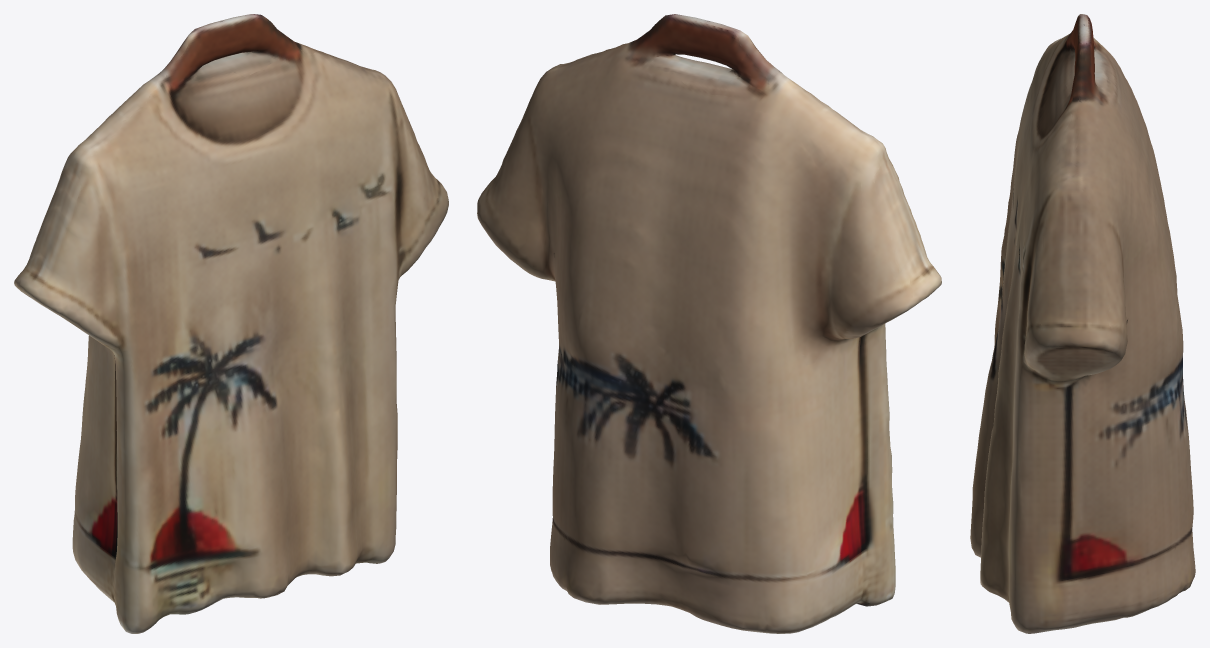
File: remerax8.glb
The picture shows the model from 3 angles, left to right: view 1: azimuth 30°, elevation 25°; view 2: azimuth 150°, elevation 25°; view 3: azimuth 270°, elevation 25°; orthographic projection. The views are drawn at different scales.
Visible parts, largest first — view 1: mesh; view 2: mesh; view 3: mesh.
Boxes of the visible parts, left/top/right/bottom form: mesh: left=14, top=14, right=448, bottom=633; mesh: left=477, top=14, right=941, bottom=633; mesh: left=970, top=14, right=1195, bottom=633.
Bounding box in the file's own units: 1.39 × 1.73 × 0.648.
Materials: 1 (1 with a texture image).
